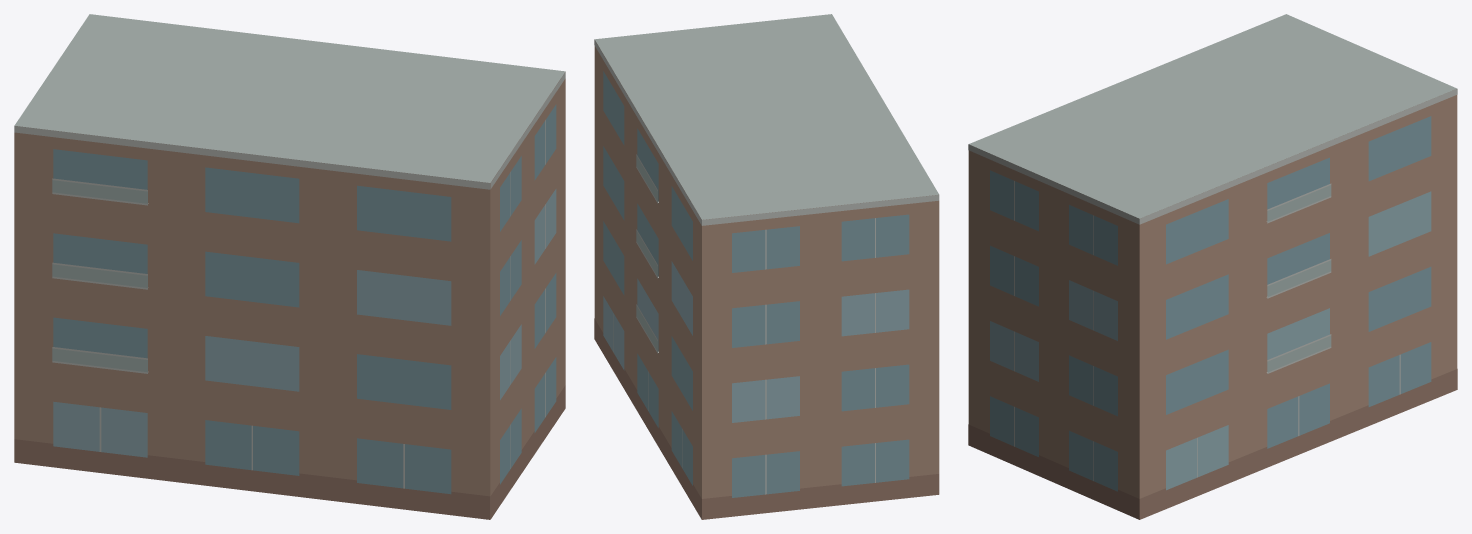
The model's file is residential-cd171c4a-be38-44a2-b70a-f87a2bae3ef3.glb.
3 renders of one model, left to right at view 1: azimuth 30°, elevation 25°; view 2: azimuth 150°, elevation 25°; view 3: azimuth 270°, elevation 25°, orthographic. The views are drawn at different scales.
Parts seen in each view (by area): view 1: residential-cd171c4a-be38-44a2-b70a-f87a2bae3ef3.tmp; view 2: residential-cd171c4a-be38-44a2-b70a-f87a2bae3ef3.tmp; view 3: residential-cd171c4a-be38-44a2-b70a-f87a2bae3ef3.tmp.
Part boxes in pixels (<box>): residential-cd171c4a-be38-44a2-b70a-f87a2bae3ef3.tmp: <box>14,14,565,519</box>; residential-cd171c4a-be38-44a2-b70a-f87a2bae3ef3.tmp: <box>594,14,939,519</box>; residential-cd171c4a-be38-44a2-b70a-f87a2bae3ef3.tmp: <box>968,14,1457,519</box>.
Size of the model in its own units: 17.79 by 12.2 by 17.95.
